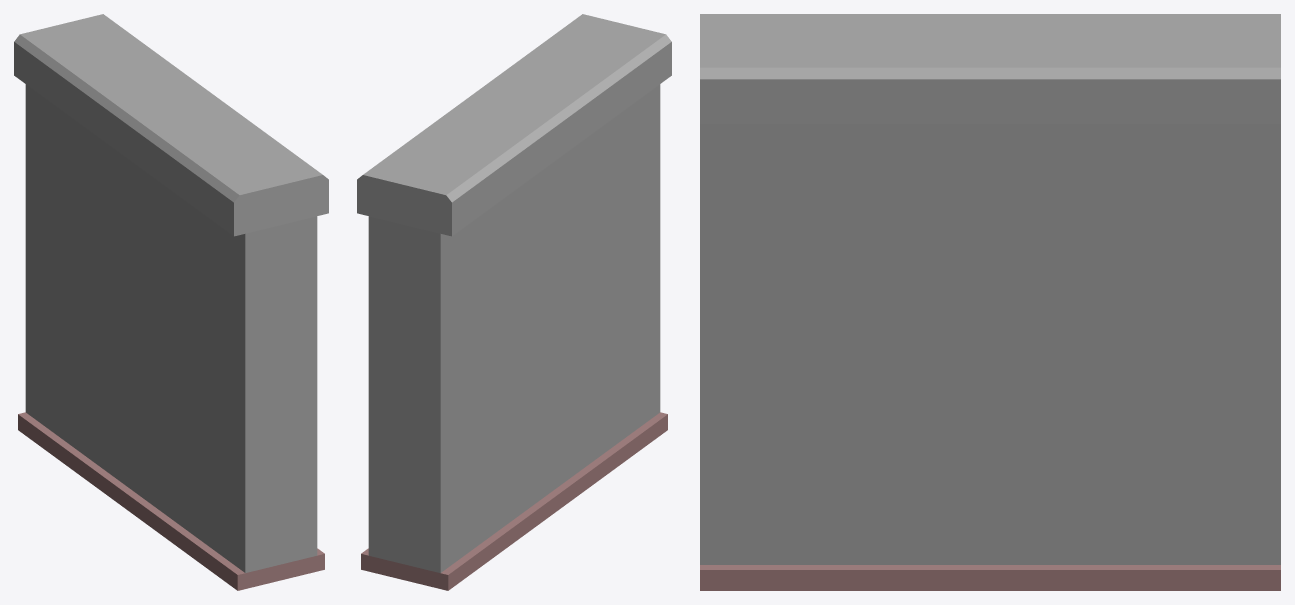
Rendered from SM_Wall_Module.fbx.
3 views of the same model, side by side, from view 1: azimuth 30°, elevation 25°; view 2: azimuth 150°, elevation 25°; view 3: azimuth 270°, elevation 25° (orthographic). The views are drawn at different scales.
Visible parts, largest first — view 1: SM_Wall_Module; view 2: SM_Wall_Module; view 3: SM_Wall_Module.
Boxes of the visible parts, x1,y1,x2,y2 form: SM_Wall_Module: (14, 14, 328, 590); SM_Wall_Module: (357, 14, 671, 590); SM_Wall_Module: (700, 14, 1280, 590).
Size of the model in its own units: 125 by 496 by 500.
